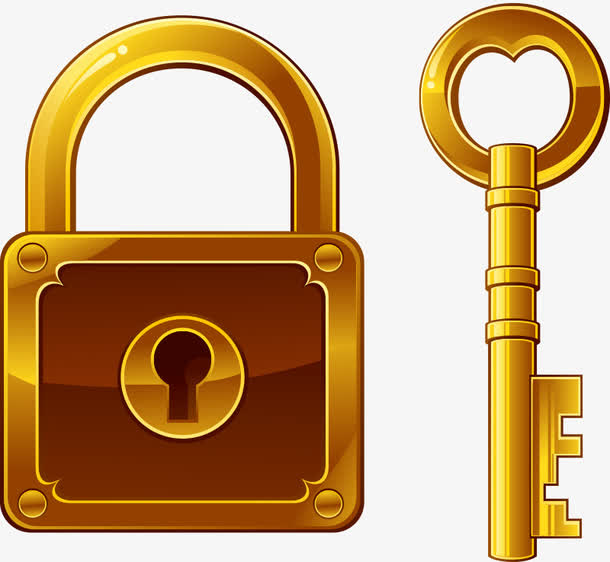key: (405, 1, 602, 560)
